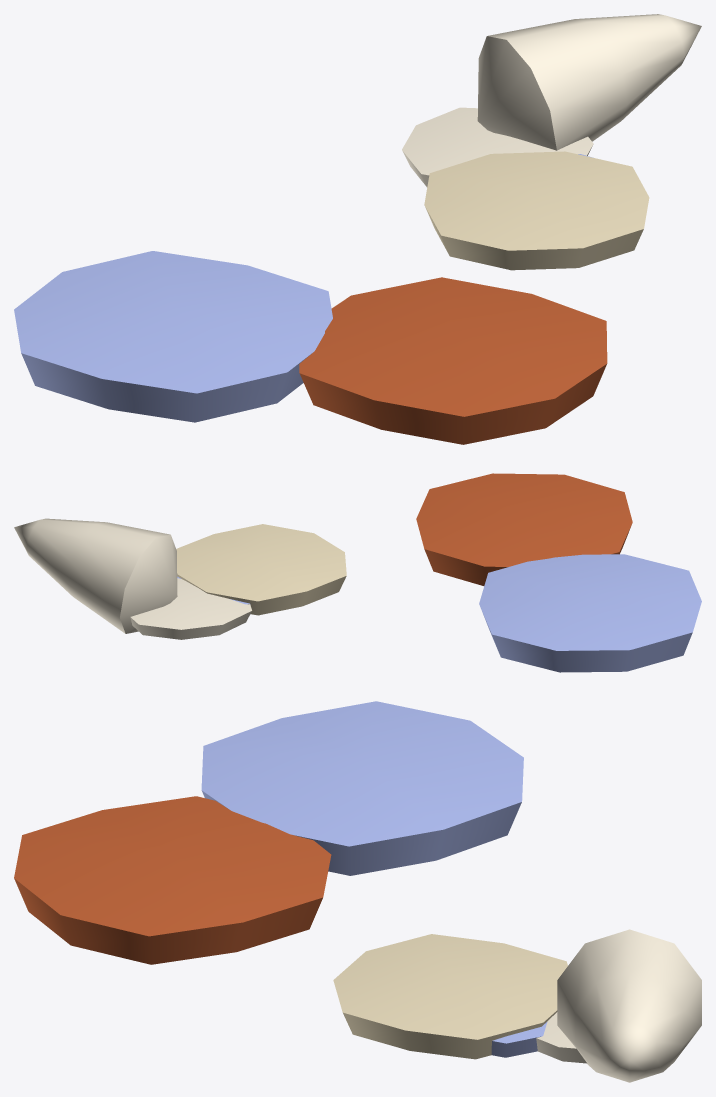
Rendered from SeaShells.fbx.
3 views of the same model, one above another, from view 1: azimuth 30°, elevation 25°; view 2: azimuth 150°, elevation 25°; view 3: azimuth 270°, elevation 25° (orthographic). The views are drawn at different scales.
Visible parts, largest first — view 1: SeaShells; view 2: SeaShells; view 3: SeaShells.
Boxes of the visible parts, box(x1,y1,x2,y2) form: SeaShells: box(14, 14, 701, 444); SeaShells: box(14, 473, 701, 672); SeaShells: box(14, 701, 701, 1082).
Bounding box in the file's own units: 0.9917 × 0.1577 × 0.7238.
1 material, 1 textured.
